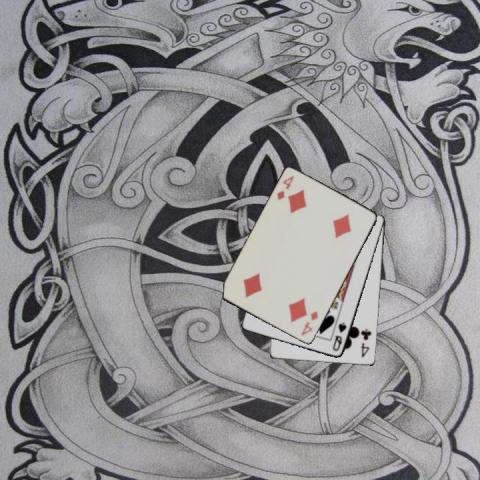4c: (358, 326, 373, 359)
4d: (298, 308, 319, 337), (274, 173, 295, 202)
Qs: (330, 319, 348, 353)
